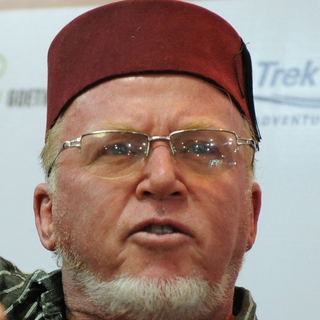eye: (178, 139, 225, 164), (97, 138, 143, 163)
